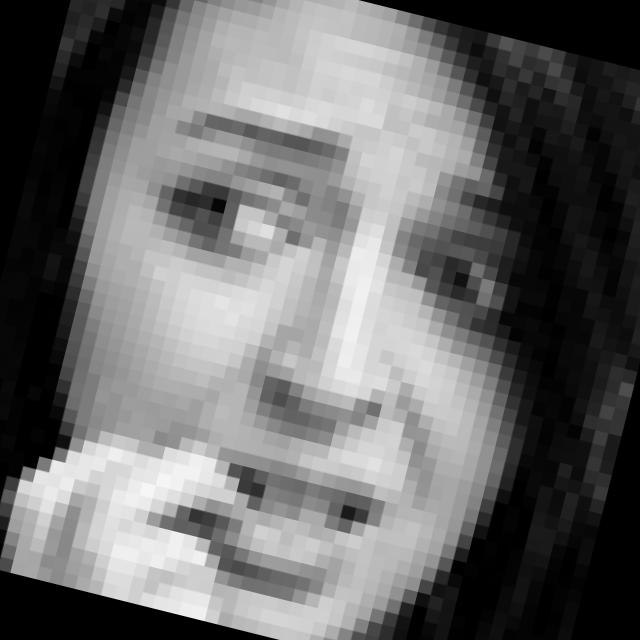fear: (57, 89, 553, 640)
